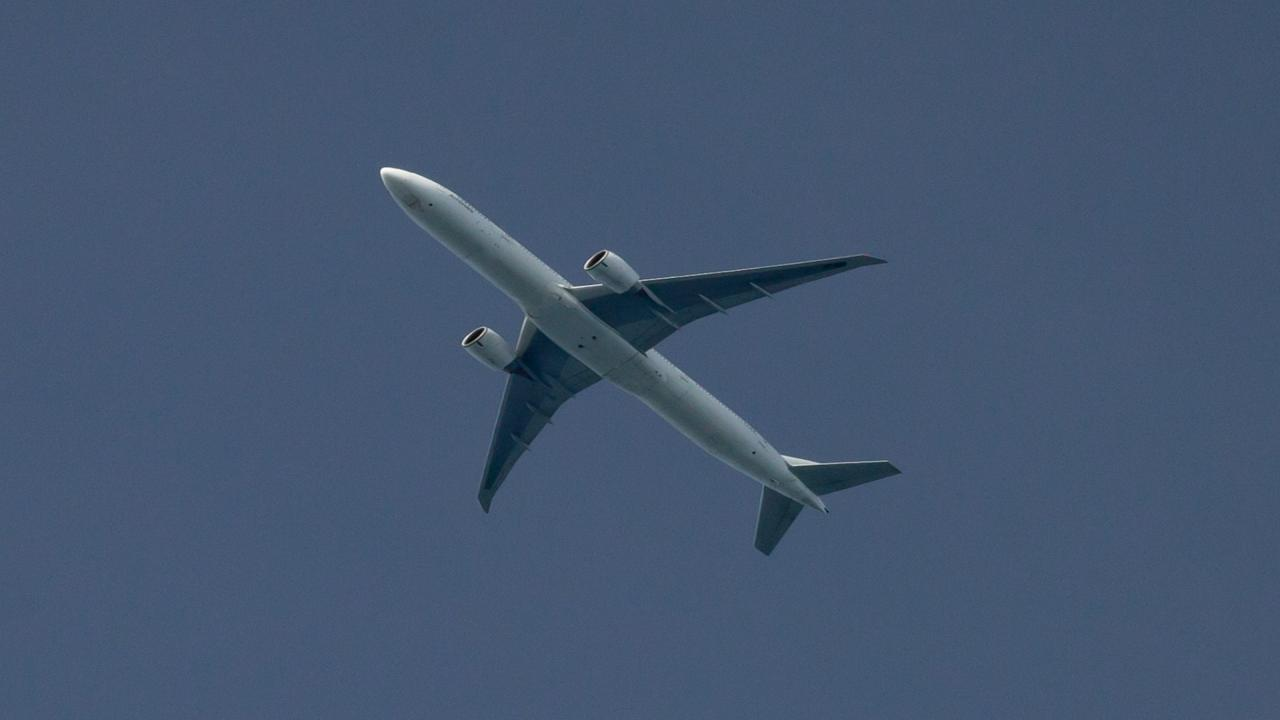Airplane: (367, 156, 913, 564)
